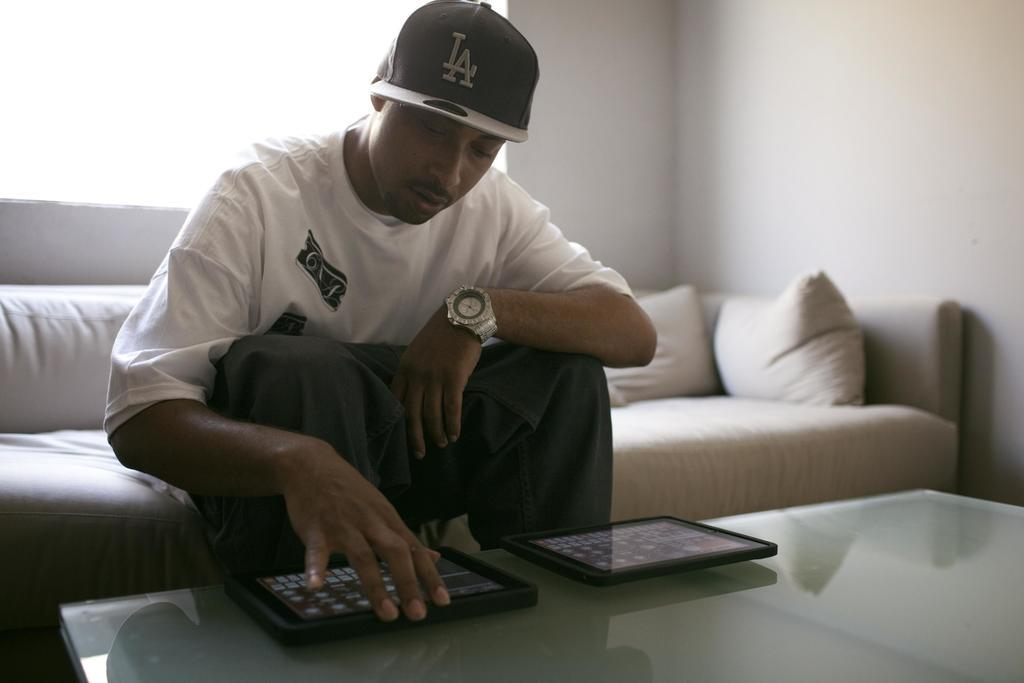Hat: (368, 0, 543, 146)
